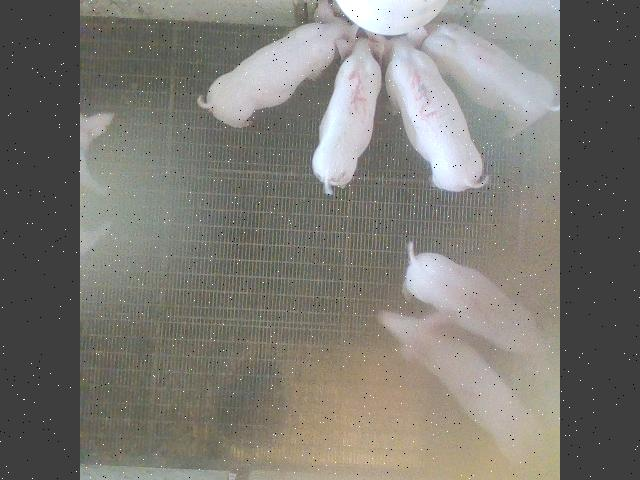pig-1: (405, 243, 544, 352)
pig-3: (385, 26, 487, 191)
pig-4: (421, 22, 559, 135)
pig-5: (312, 34, 387, 194)
